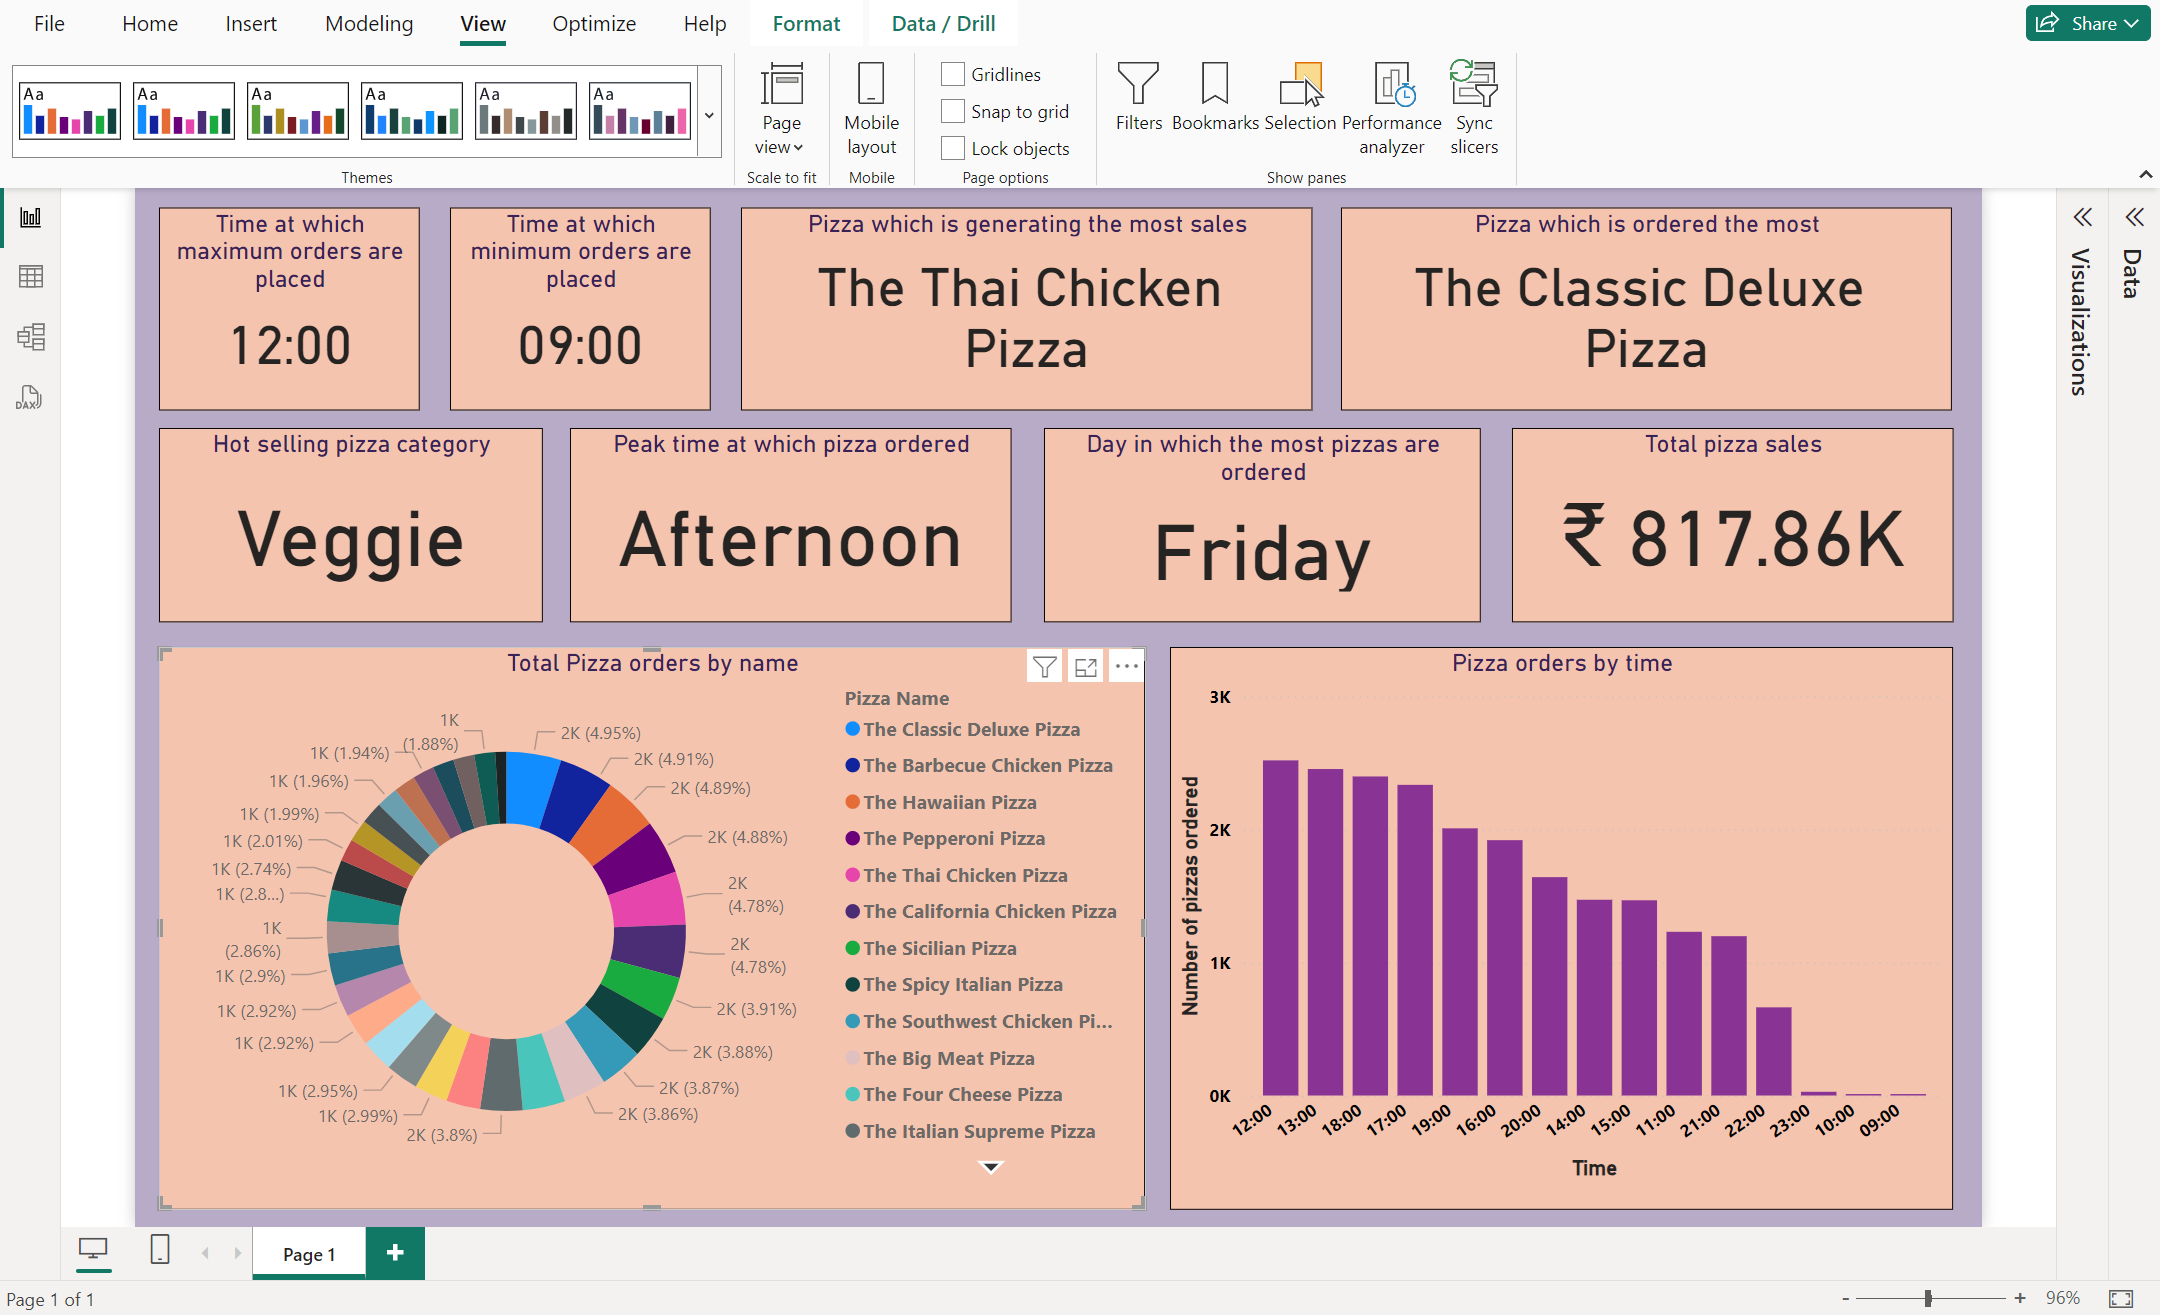

Layout of this report page (visuals, bound fields, positions):
{"tool":"powerbi","page":{"name":"Page 1","canvas":[1280,720],"ordinal":0},"visuals":[{"type":"card","title":"Time at which maximum orders are placed","fields":{"Values":["orders.MaxOrdersTime"]},"box":[16.8,13.8,180.4,140.6],"z":0},{"type":"card","title":"Time at which minimum orders are placed","fields":{"Values":["orders.MinOrdersTime"]},"box":[218.6,13.8,180.4,140.6],"z":1000},{"type":"columnChart","title":"Pizza orders by time","fields":{"Category":["orders.HourMinute"],"Y":["CountNonNull(orders.order_id)"]},"box":[716.9,318,542.7,389.8],"z":2000},{"type":"card","title":"Day in which the most pizzas are ordered","fields":{"Values":["orders.MaxOrdersDayName"]},"box":[629.8,166.6,302.7,134.5],"z":3000},{"type":"card","title":"Total pizza sales","fields":{"Values":["order_details.TotalSales"]},"box":[953.9,166.6,305.7,134.5],"z":4000},{"type":"donutChart","title":"Total Pizza orders by name","fields":{"Category":["pizza_types.name"],"Y":["order_details.TotalPizzaOrders"]},"box":[16.8,318,683.3,389.8],"z":5000},{"type":"card","title":"Pizza which is ordered the most","fields":{"Values":["pizza_types.MostOrderedPizzaName"]},"box":[836.2,13.8,423.4,140.6],"z":6000},{"type":"card","title":"Pizza which is generating the most sales","fields":{"Values":["order_details.MostGeneratingPizza"]},"box":[420.4,13.8,395.9,140.6],"z":7000},{"type":"card","title":"Peak time at which pizza ordered","fields":{"Values":["orders.PeakTimeOfDay"]},"box":[301.1,166.6,305.7,134.5],"z":8000},{"type":"card","title":"Hot selling pizza category","fields":{"Values":["pizza_types.HotSellingCategory"]},"box":[16.8,166.6,266,134.5],"z":9000}]}

Visuals, with their boxes on the page's 1280x720 design canvas (x1, y1, x2, y2). These are canvas units, not pixel positions in the 2160x1315 screenshot, which may show the page scaled, cropped or inside an application window:
"Time at which maximum orders are placed" card: 17 14 197 154
"Time at which minimum orders are placed" card: 219 14 399 154
"Pizza orders by time" columnChart: 717 318 1260 708
"Day in which the most pizzas are ordered" card: 630 167 932 301
"Total pizza sales" card: 954 167 1260 301
"Total Pizza orders by name" donutChart: 17 318 700 708
"Pizza which is ordered the most" card: 836 14 1260 154
"Pizza which is generating the most sales" card: 420 14 816 154
"Peak time at which pizza ordered" card: 301 167 607 301
"Hot selling pizza category" card: 17 167 283 301
